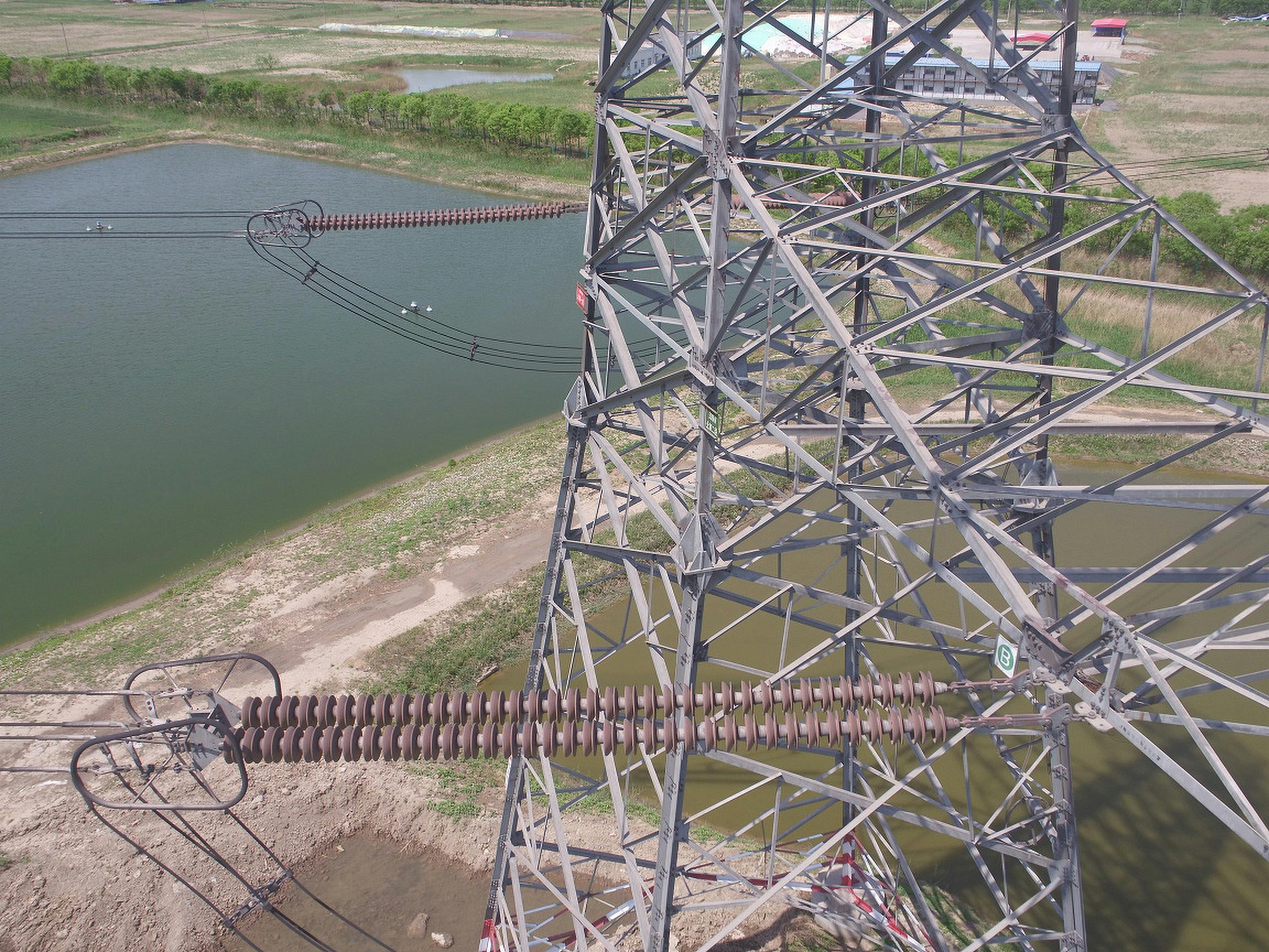insulator: (218, 666, 953, 772), (300, 198, 567, 233), (688, 189, 863, 212)
